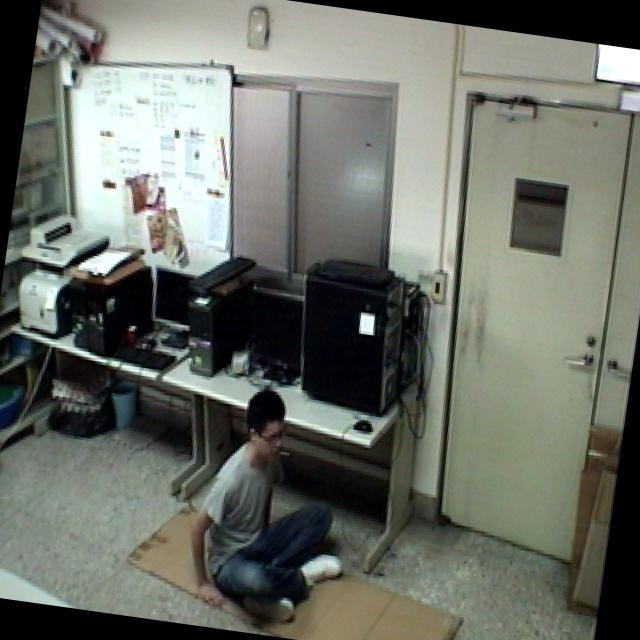sit: (173, 367, 368, 638)
